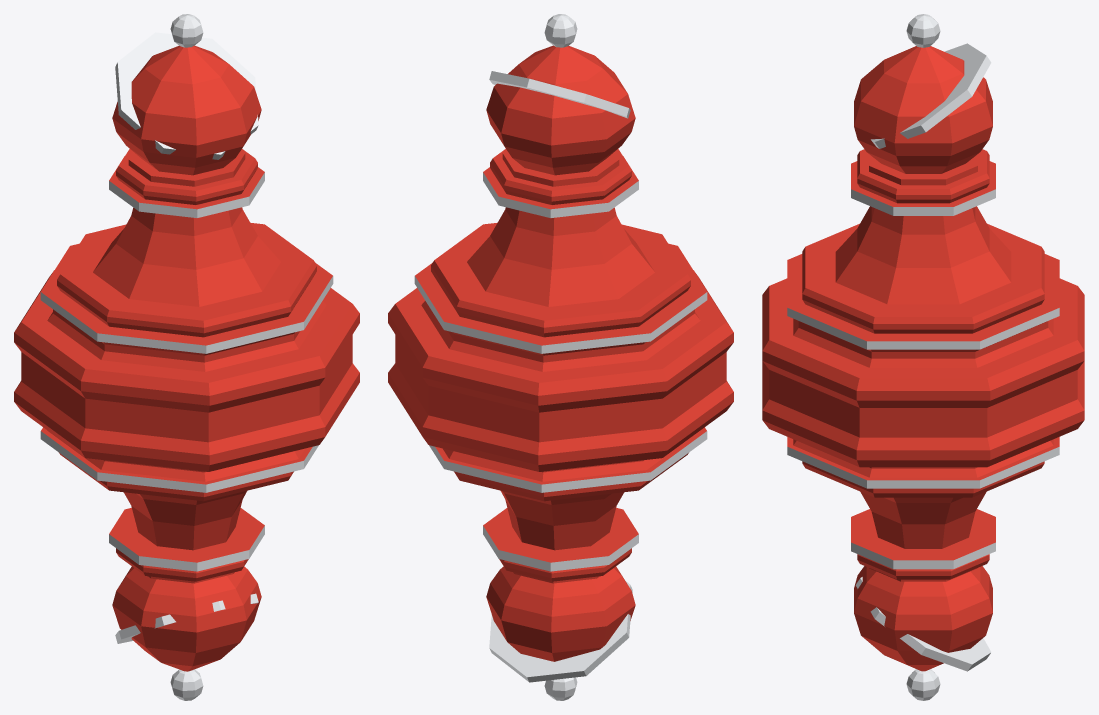
The model's file is bishop-faceted.glb.
3 renders of one model, left to right at view 1: azimuth 30°, elevation 25°; view 2: azimuth 150°, elevation 25°; view 3: azimuth 270°, elevation 25°, orthographic.
Visible parts, largest first — view 1: bishop-faceted; view 2: bishop-faceted; view 3: bishop-faceted.
Part boxes in pixels (bbox=[...]): bishop-faceted: bbox=[14, 14, 359, 700]; bishop-faceted: bbox=[388, 14, 733, 700]; bishop-faceted: bbox=[762, 14, 1084, 700].
Bounding box in the file's own units: 0.4229 × 0.9907 × 0.4229.
